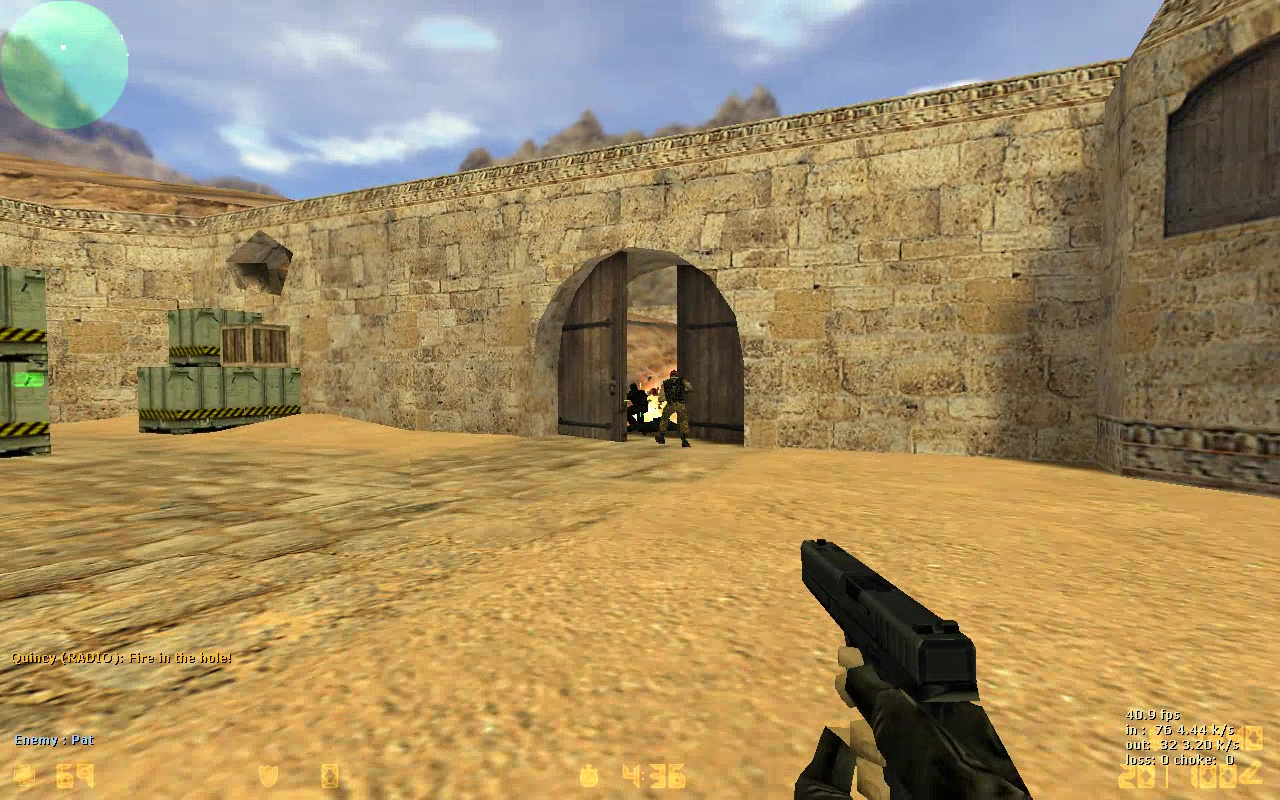ct: (624, 382, 649, 432)
terr1: (660, 370, 693, 452)
